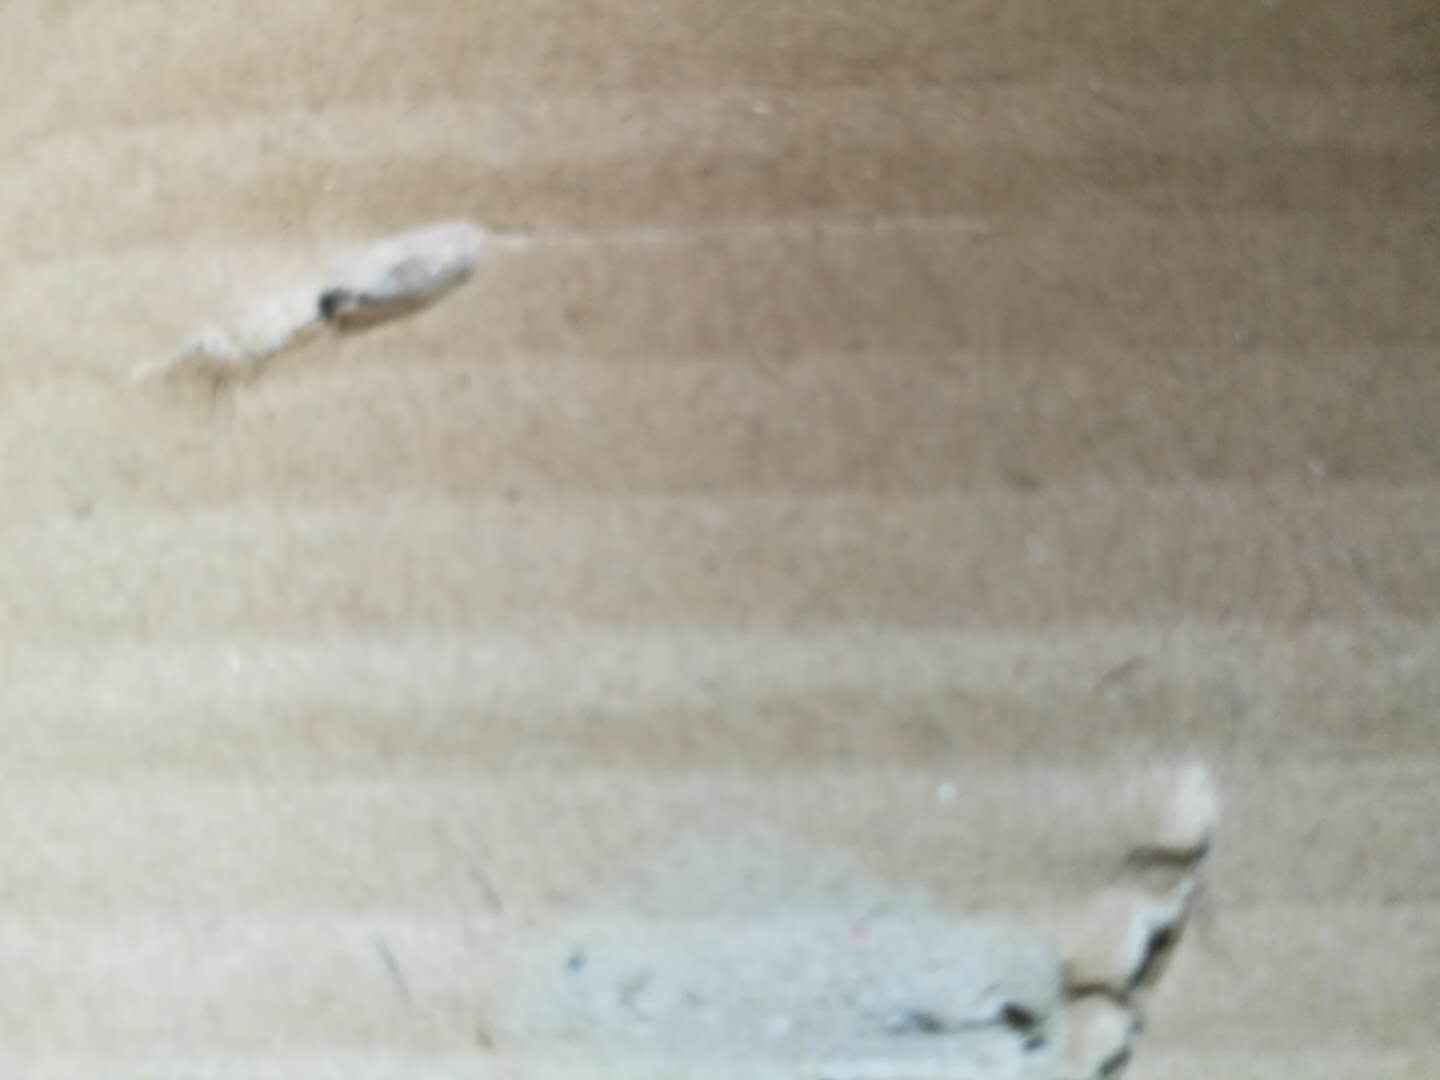defect: (383, 744, 1301, 1079), (101, 202, 551, 417)
